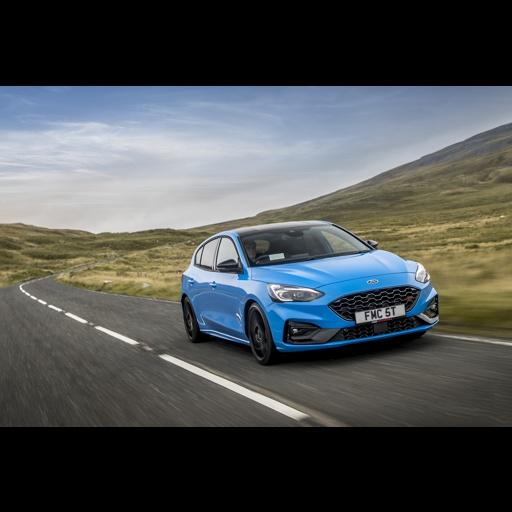hatchback: (179, 220, 438, 364)
